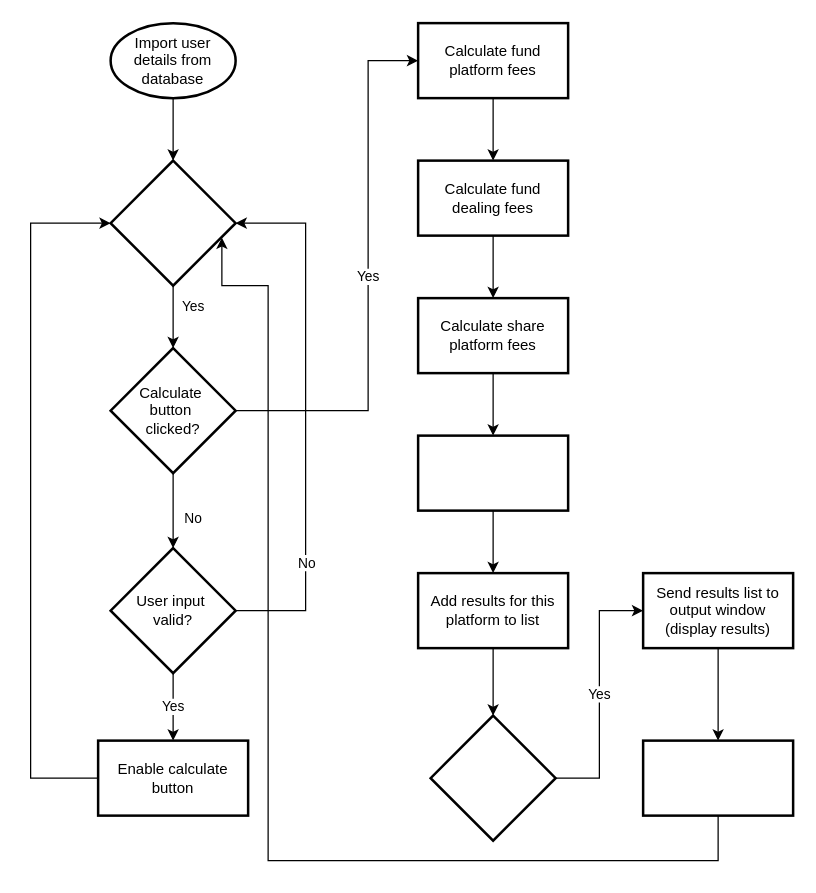
Some shapes in this 816 by 893 pixel diagram are drawn without their labels. Here are the shapes that lost their labels. From the top down, the box of each, then its label:
(109, 159, 236, 286): User input?
(416, 434, 569, 511): Calculate share dealing fees
(429, 714, 556, 841): Last platform processed?
(641, 739, 794, 816): Save user details to database
